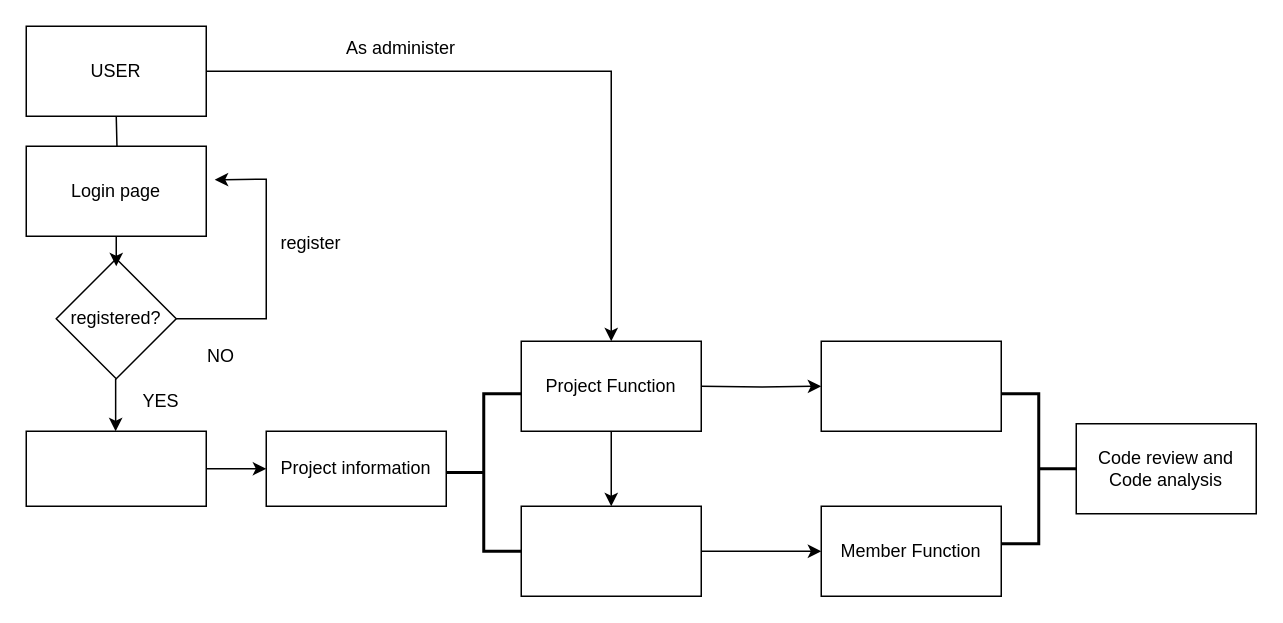
This 1283x623 diagram has some shape labels left out. Here are the shapes that lost their labels. From the top down, the box of each, then its label:
(820, 340, 1001, 431): Task Management
(25, 430, 206, 506): Login and authorization
(520, 505, 701, 596): Member Details
